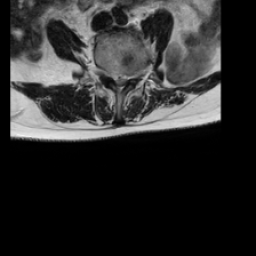CCS_normal: (117, 67, 123, 96)
LFS_stenosis: (129, 67, 135, 85)
LLS_normal: (123, 67, 128, 89)
RFS_stenosis: (105, 65, 111, 82)
RLS_normal: (111, 66, 117, 87)
